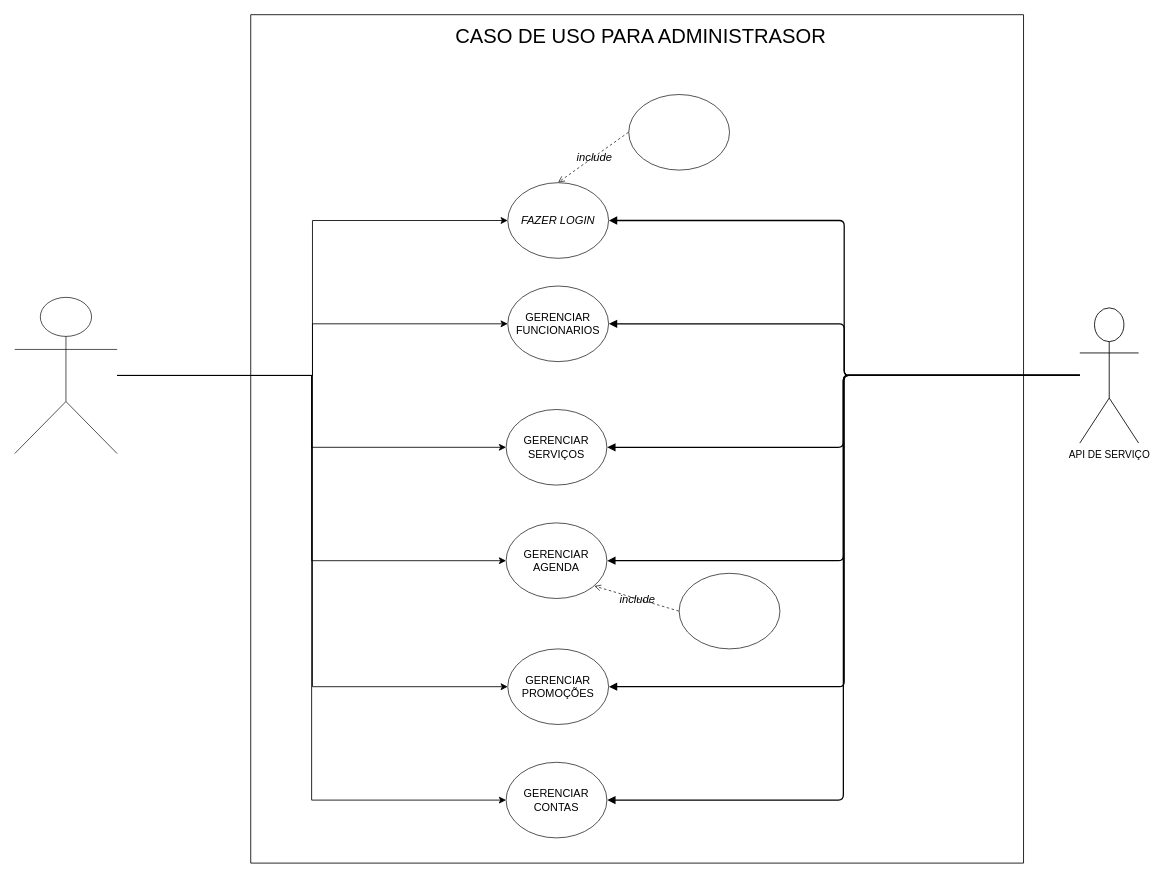
Image size: 1164x878. Some labels were removed from this diagram. The shapes that lost their labels are listed below. From the top down, each one's centre as x and y in pixels, then its label:
[678,132]: AUTENTICAR USUÁRIO
[65,375]: usuário
[729,611]: VISUALIZAR AGENDA DO SALÃO
